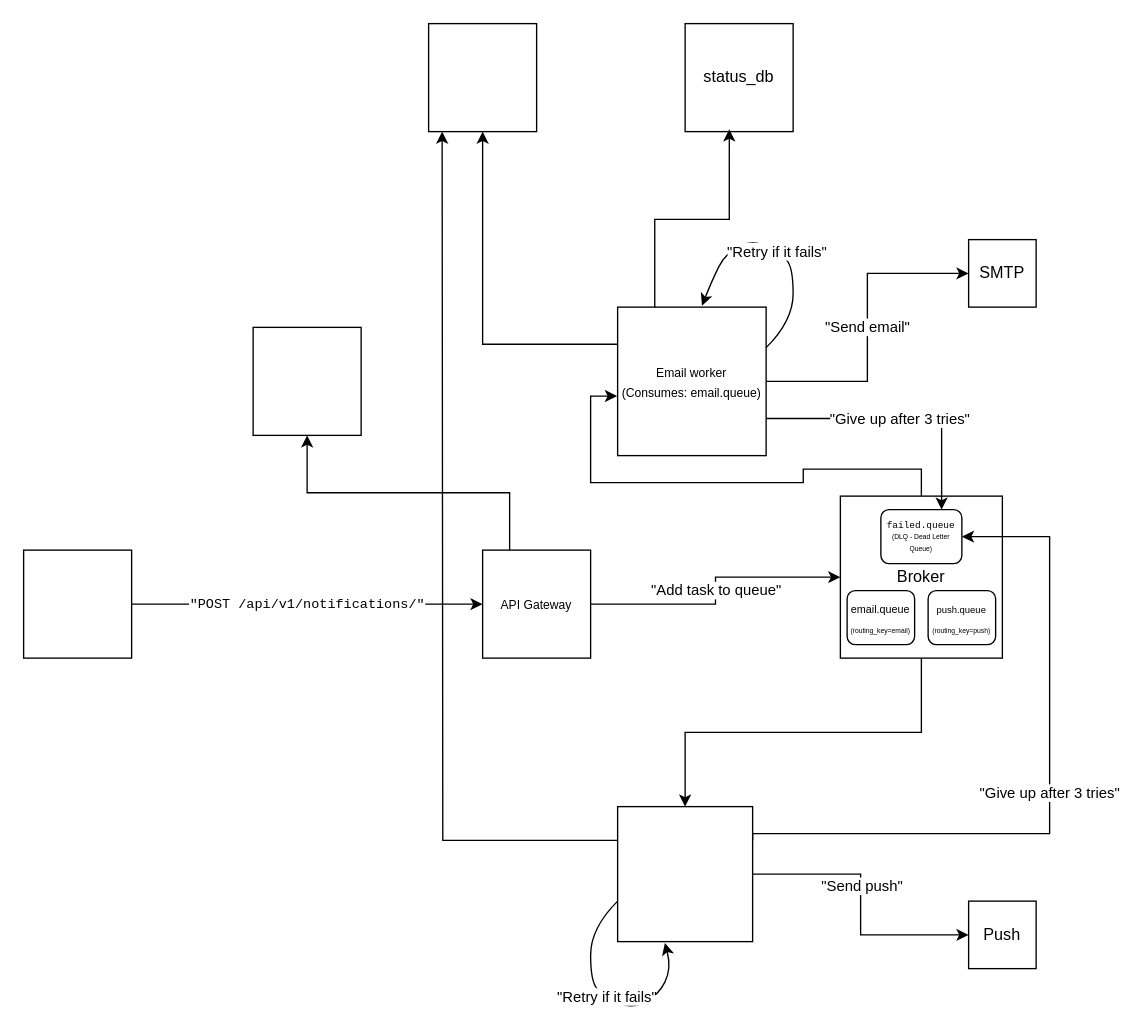
This 1143x1030 diagram has some shape labels left out. Here are the shapes that lost their labels. From the top down, the centre of each, then its label:
At pixel 482 77: "templates_db".
At pixel 306 380: "users_db".
At pixel 77 603: "Client".
At pixel 684 873: "Push worker Consumes: push.queue".
